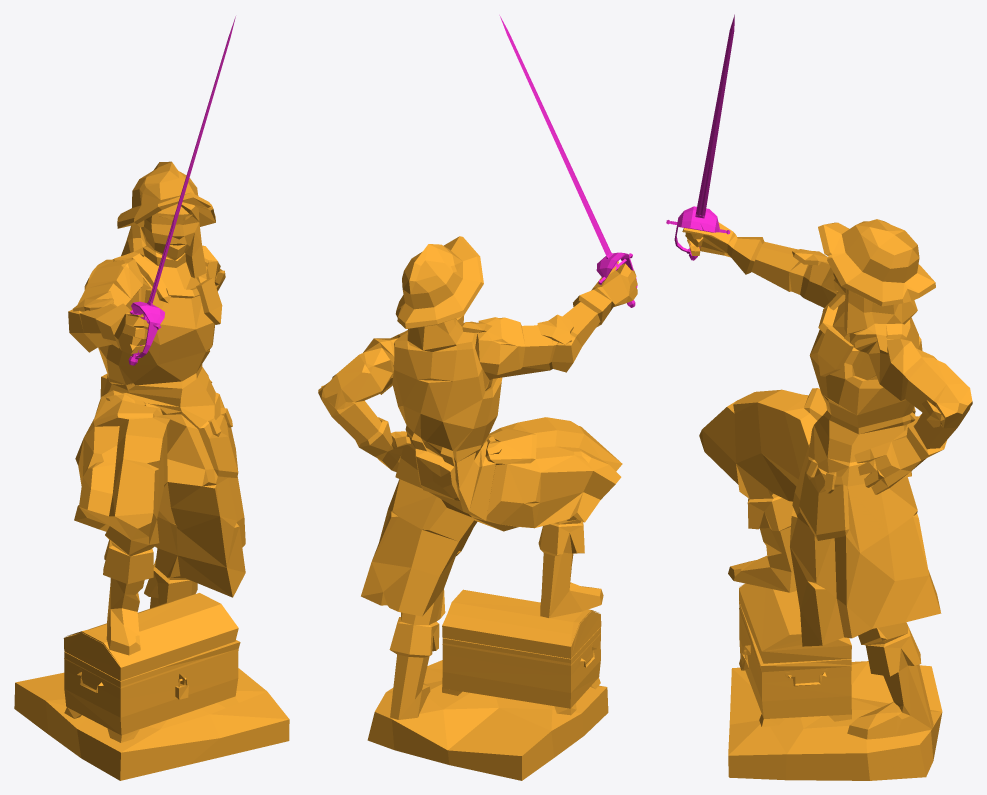
Rendered from SM_Statue_Soldier_Woman_Fantasy.fbx.
3 renders of one model, left to right at view 1: azimuth 30°, elevation 25°; view 2: azimuth 150°, elevation 25°; view 3: azimuth 270°, elevation 25°, orthographic. The views are drawn at different scales.
Parts seen in each view (by area): view 1: SM_Statue_Soldier_Woman_Fantasy; view 2: SM_Statue_Soldier_Woman_Fantasy; view 3: SM_Statue_Soldier_Woman_Fantasy.
Boxes of the visible parts, bbox=[...] form: SM_Statue_Soldier_Woman_Fantasy: bbox=[14, 16, 289, 780]; SM_Statue_Soldier_Woman_Fantasy: bbox=[318, 15, 637, 780]; SM_Statue_Soldier_Woman_Fantasy: bbox=[666, 14, 972, 780].
Bounding box in the file's own units: 0.8964 × 2.68 × 1.01.
